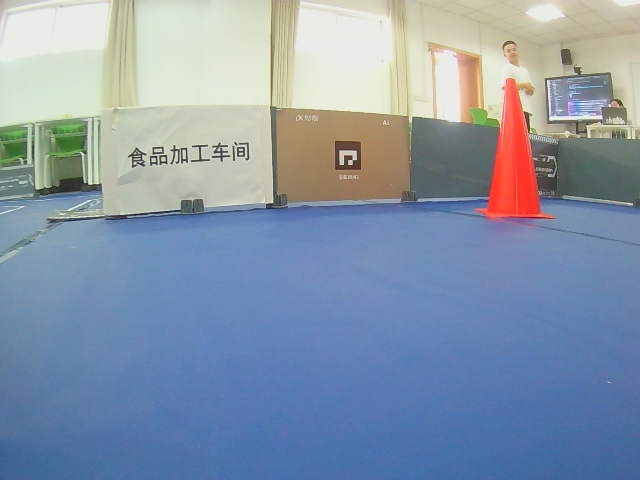target: (128, 140, 251, 169)
